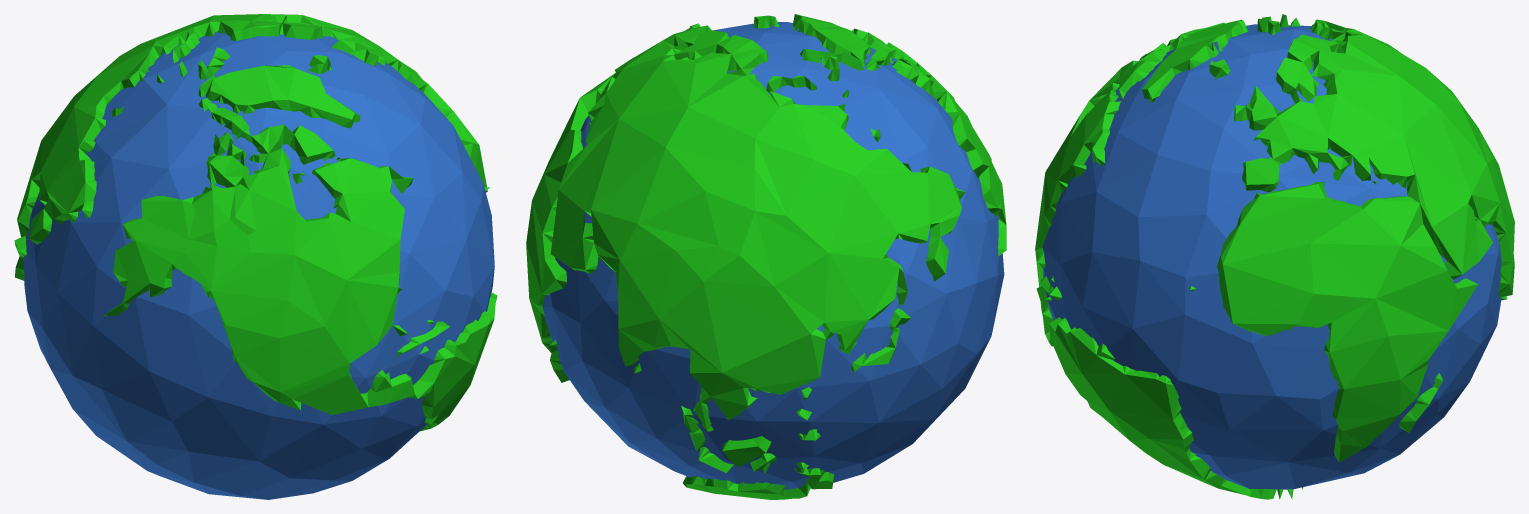
File: low_poly_earth.obj
3 renders of one model, left to right at view 1: azimuth 30°, elevation 25°; view 2: azimuth 150°, elevation 25°; view 3: azimuth 270°, elevation 25°, orthographic.
Parts seen in each view (by area): view 1: low_poly_earth; view 2: low_poly_earth; view 3: low_poly_earth.
Boxes of the visible parts, left/top/right/bottom form: low_poly_earth: left=14, top=14, right=497, bottom=499; low_poly_earth: left=526, top=14, right=1006, bottom=499; low_poly_earth: left=1035, top=14, right=1514, bottom=499.
Bounding box in the file's own units: 1.95 × 2.01 × 1.99.
